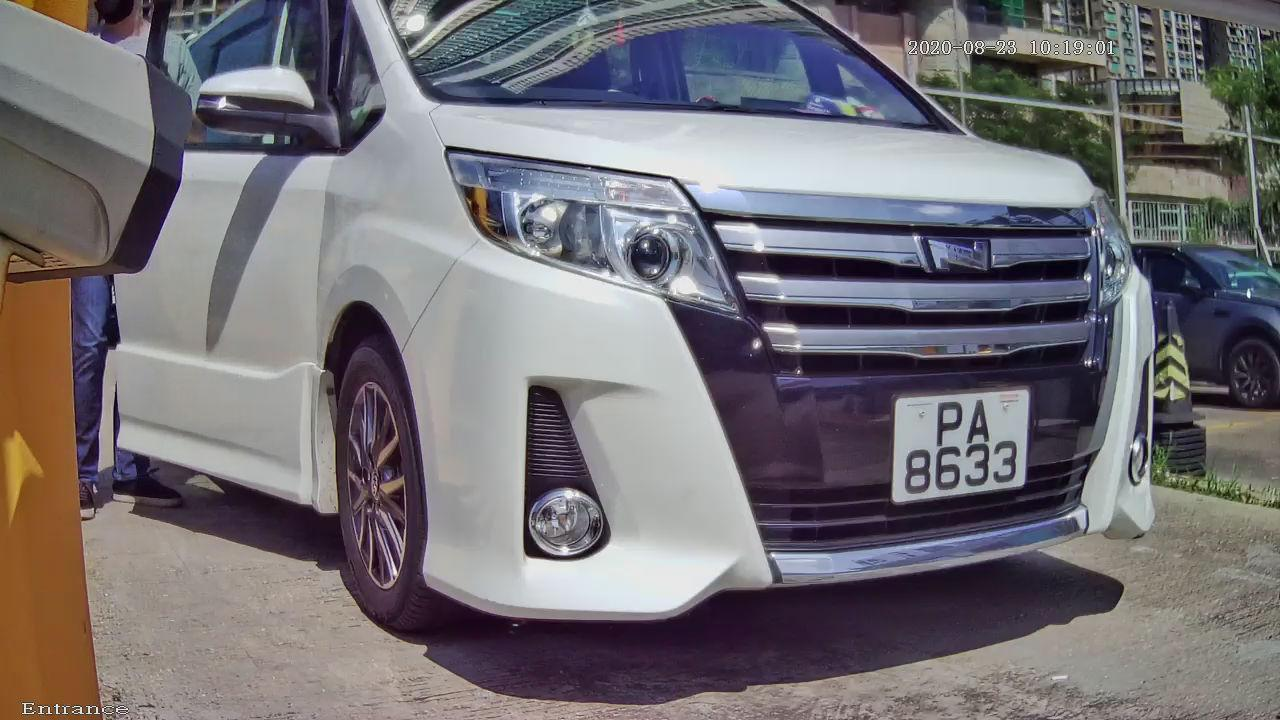License Plate: (875, 370, 1041, 521)
